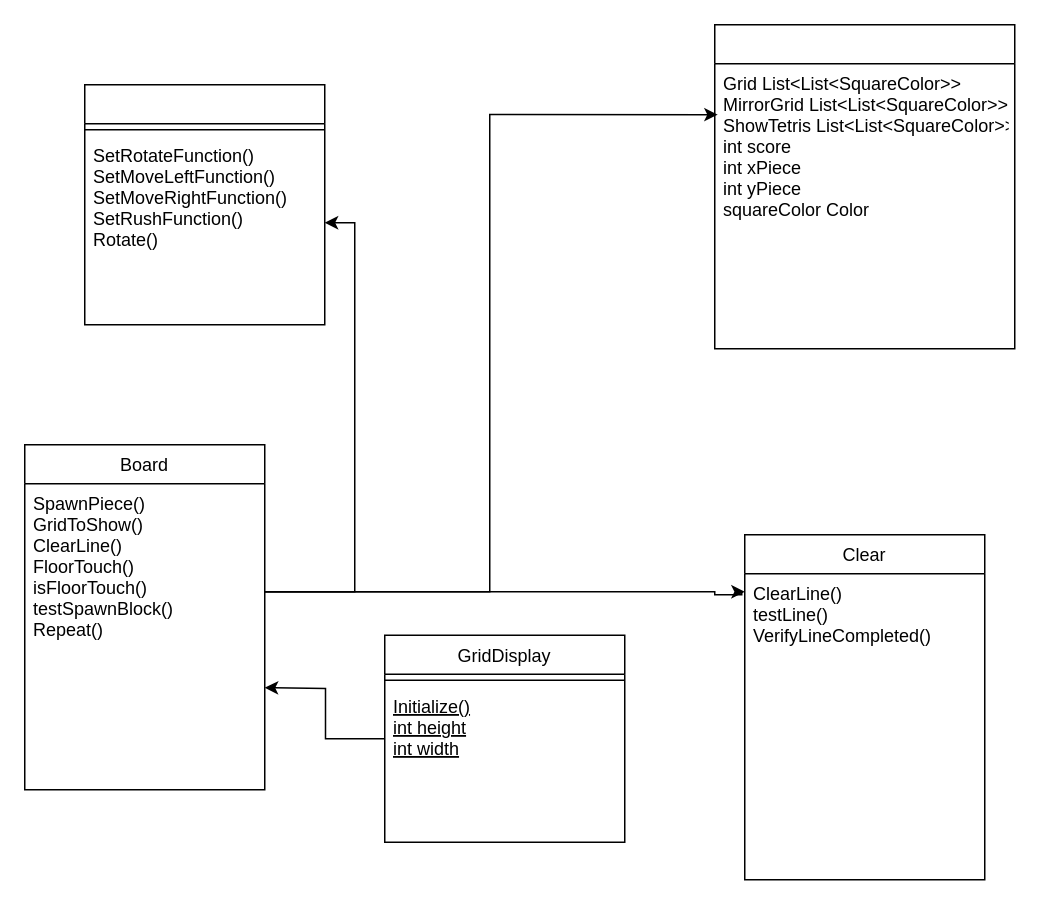
This 1040x905 diagram has some shape labels left out. Each missing label, with the box of its shape:
Game: (713, 23, 1015, 349)
Keyboard: (83, 83, 325, 325)
